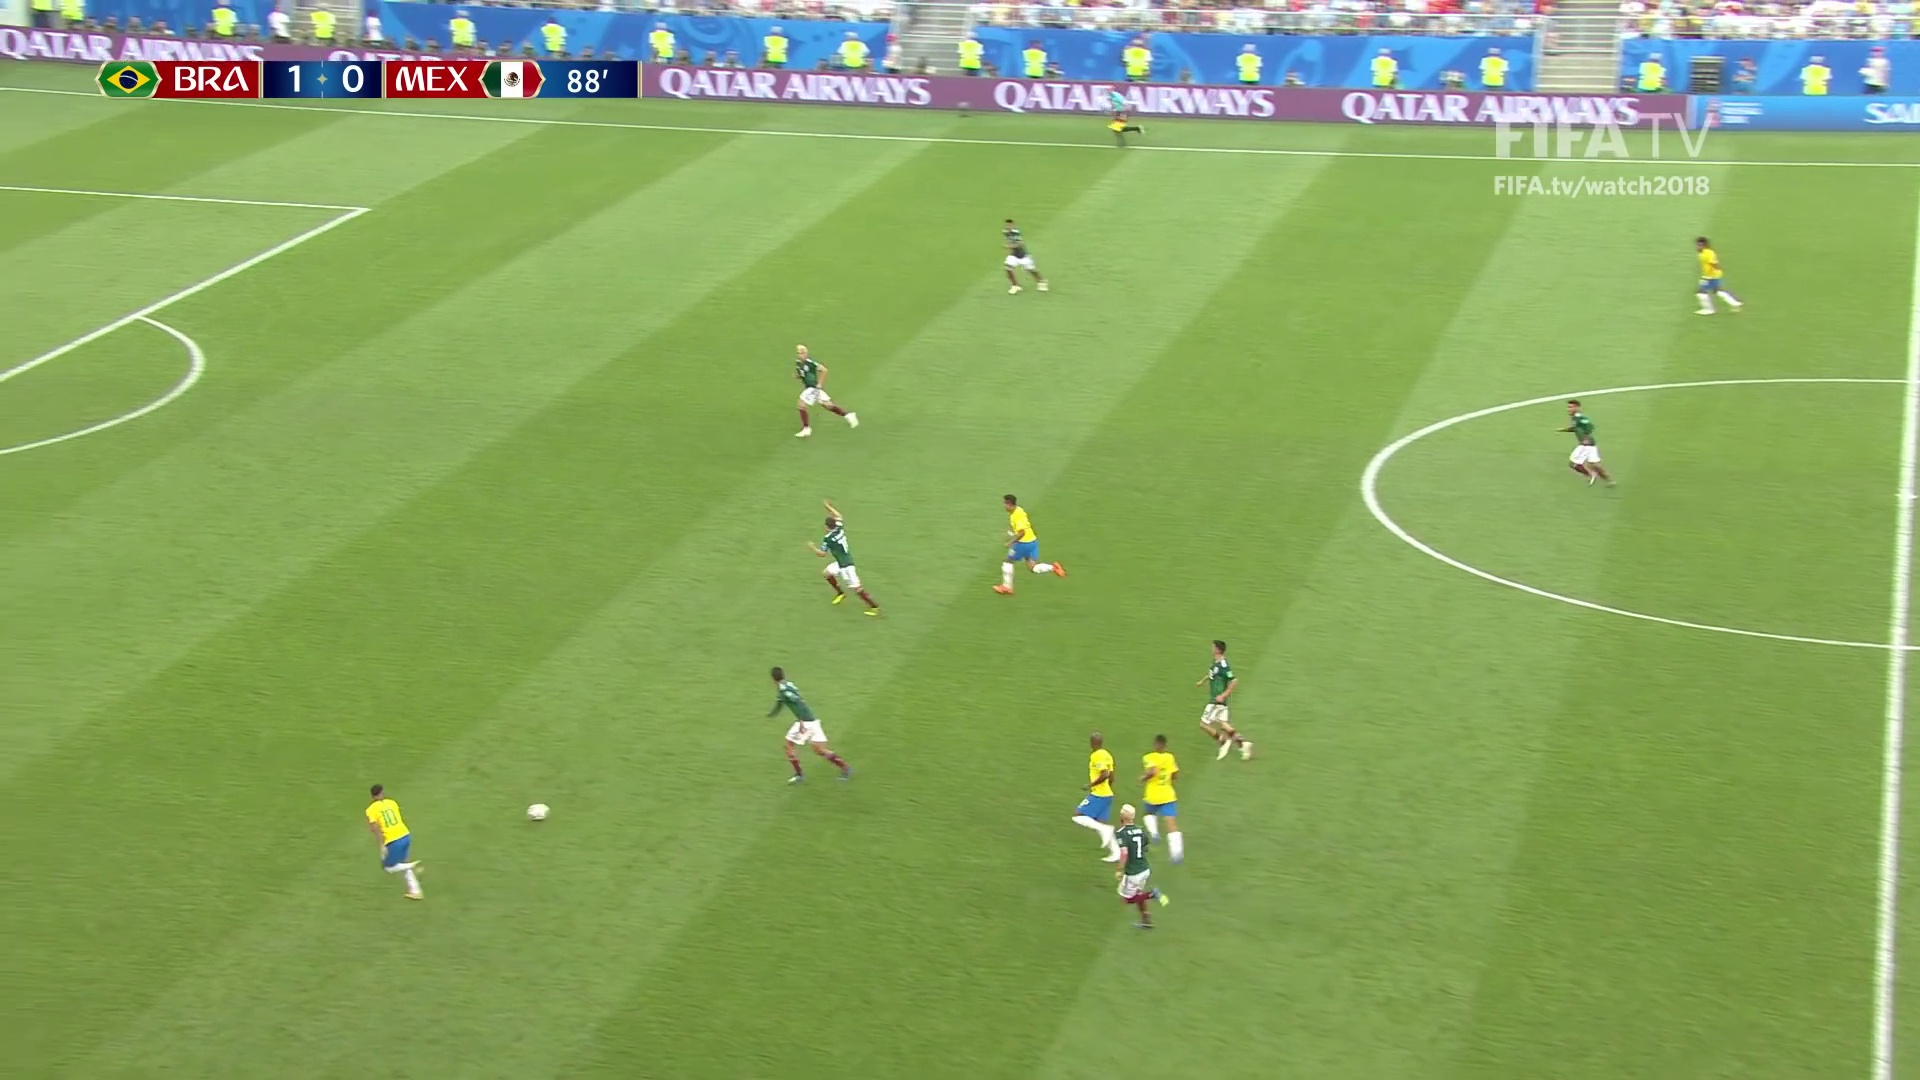ball: (527, 803, 549, 819)
person: (768, 665, 847, 781), (811, 499, 882, 614), (1195, 641, 1251, 762), (1071, 731, 1120, 863), (368, 785, 424, 897), (1114, 803, 1165, 930), (998, 495, 1062, 591), (1138, 732, 1182, 864), (796, 344, 856, 436), (1561, 400, 1613, 486), (1691, 237, 1740, 317), (1002, 220, 1052, 295)
